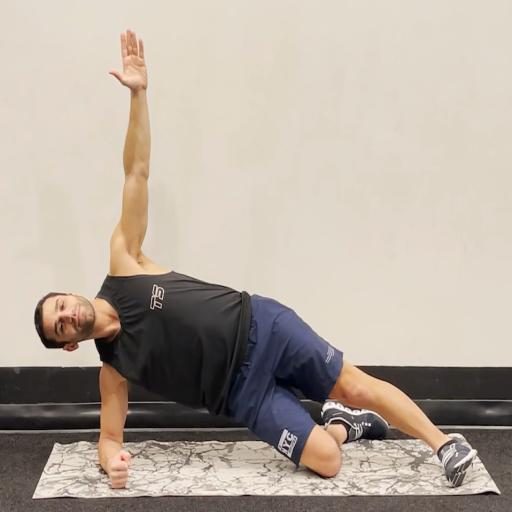Normal_BrenchPress: (33, 28, 483, 492)
